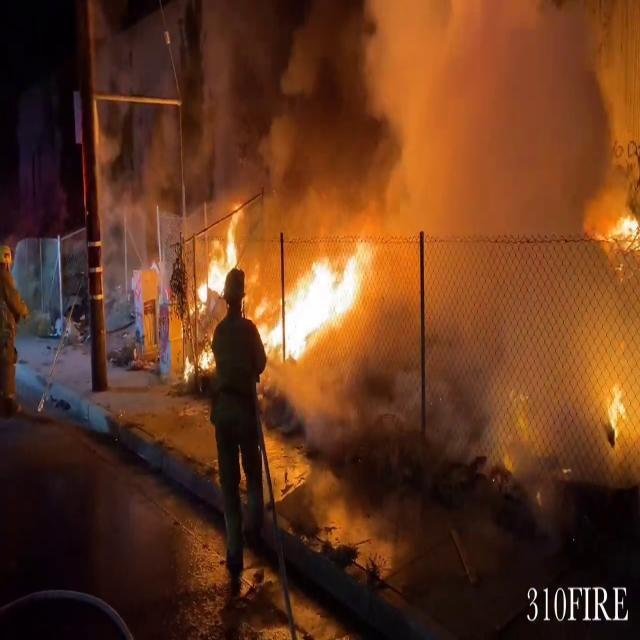Fire: (260, 232, 372, 364), (196, 201, 248, 315), (595, 376, 640, 452)
Smoke: (99, 0, 640, 290)
